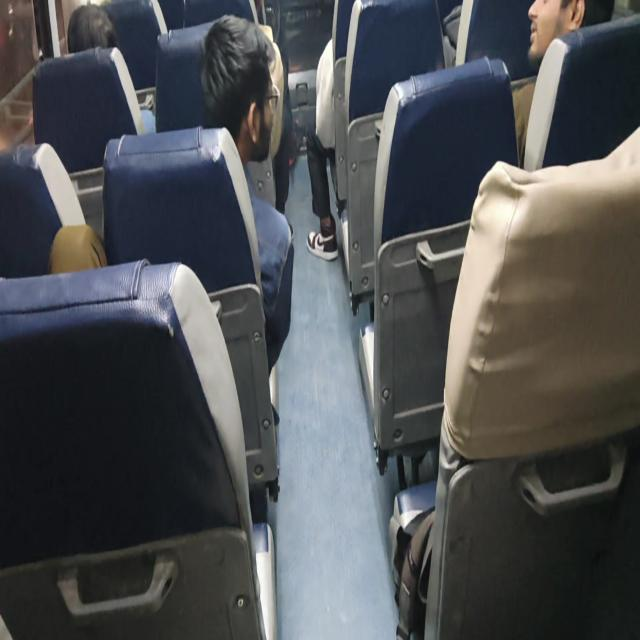person: (200, 13, 294, 376), (305, 0, 381, 262), (511, 0, 586, 162), (66, 4, 154, 136), (305, 37, 340, 261), (526, 0, 586, 66), (66, 3, 118, 53)
